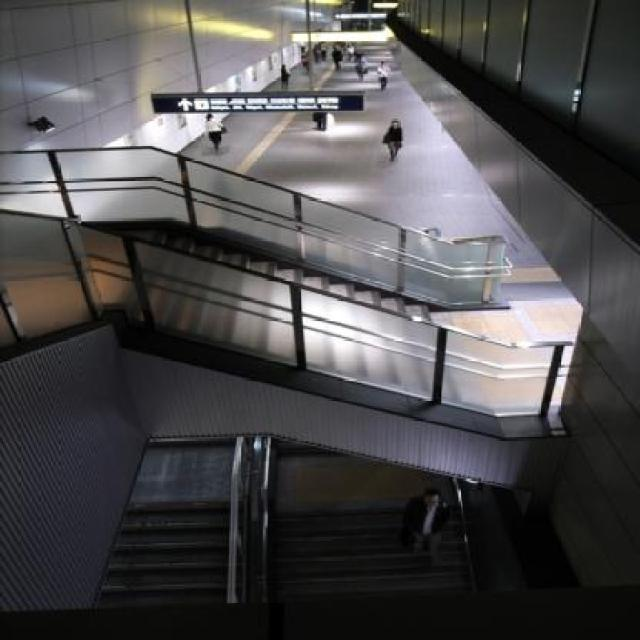stair: (142, 226, 460, 400), (94, 506, 237, 611)
